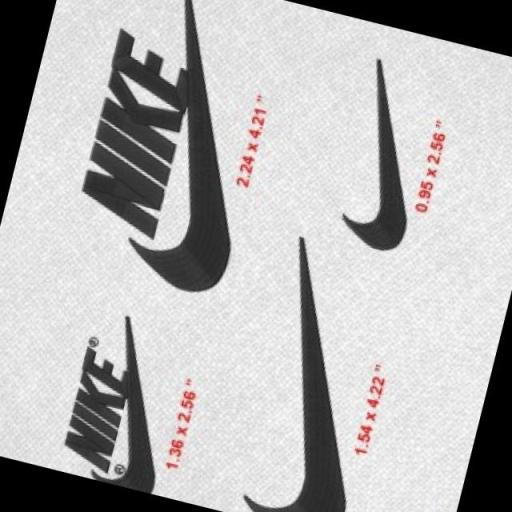Nike: (70, 27, 206, 242), (324, 49, 450, 260)
